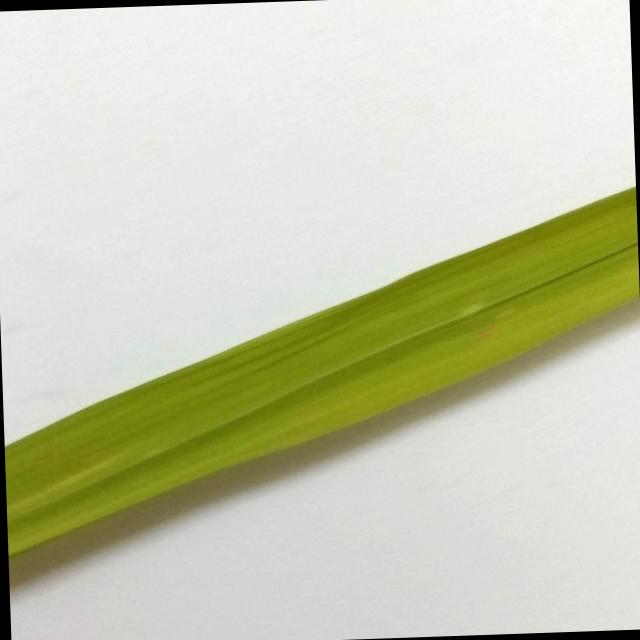Rice_Healthy: (4, 187, 639, 556)
